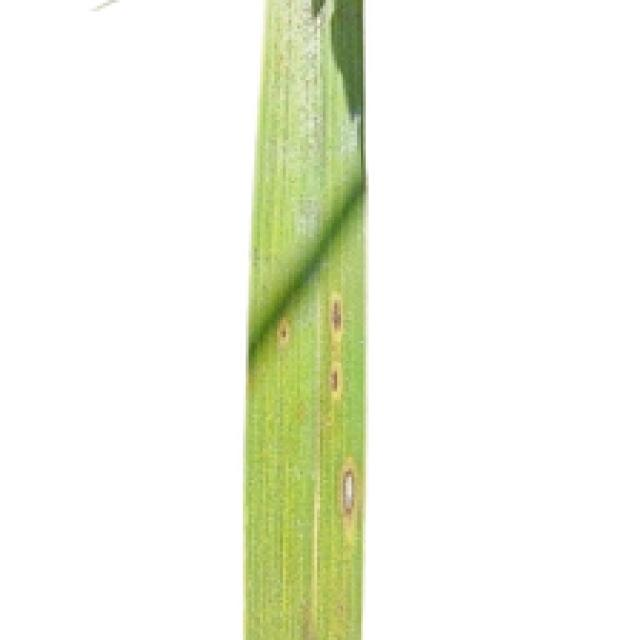Rice___Rice_Blast: (244, 0, 369, 637)
